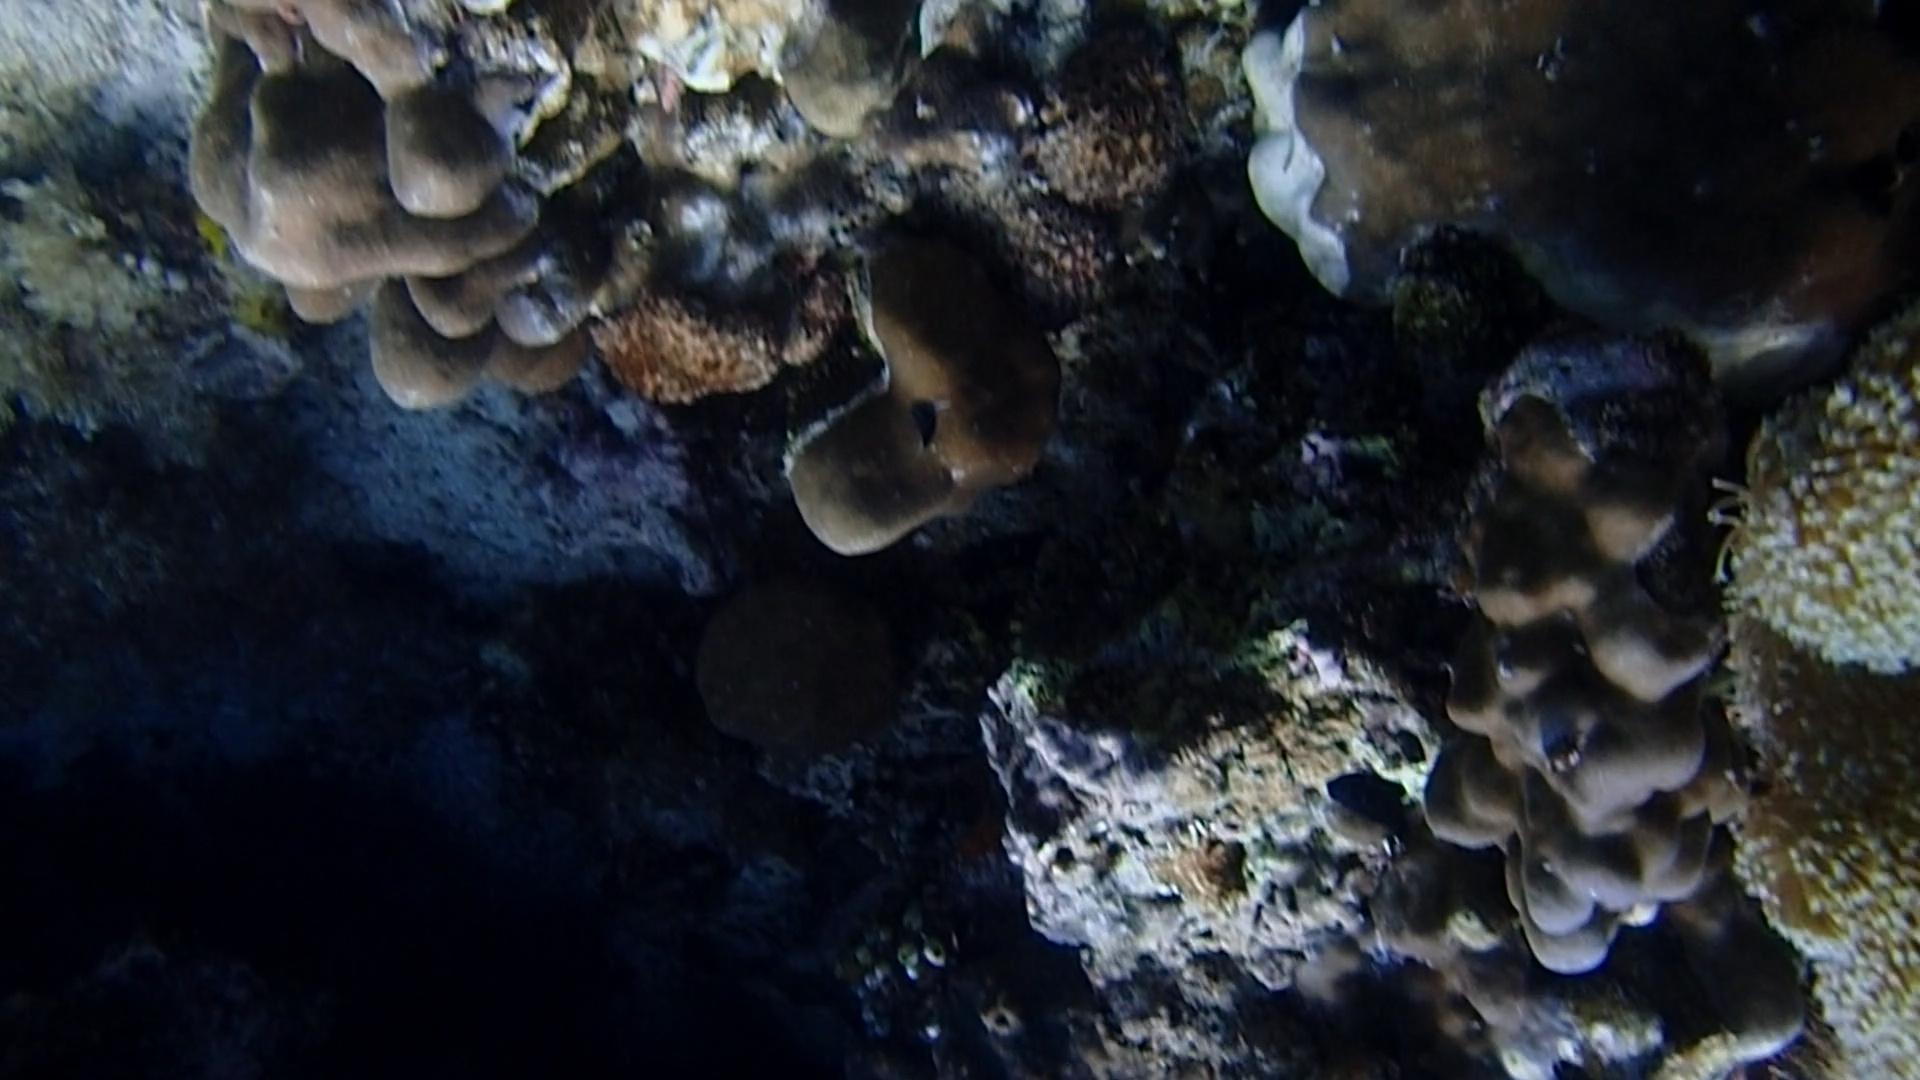Dark Fish: (1323, 750, 1424, 843)
Yellow Tail: (895, 385, 955, 467)
